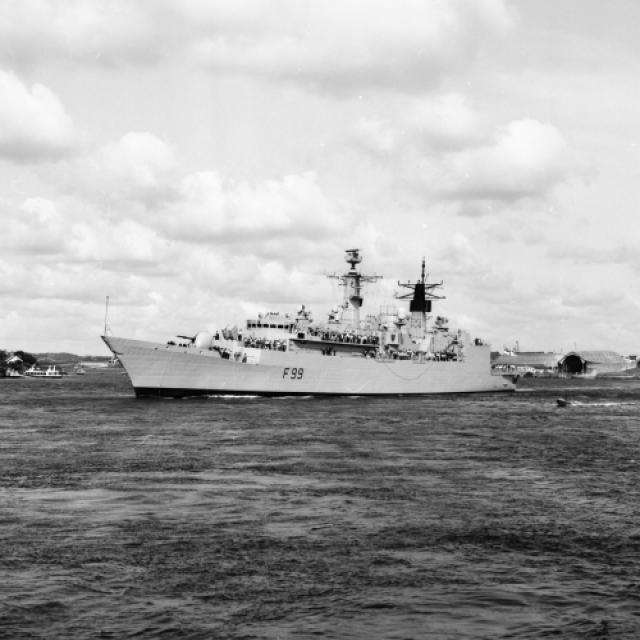Fragata: (96, 230, 514, 408)
